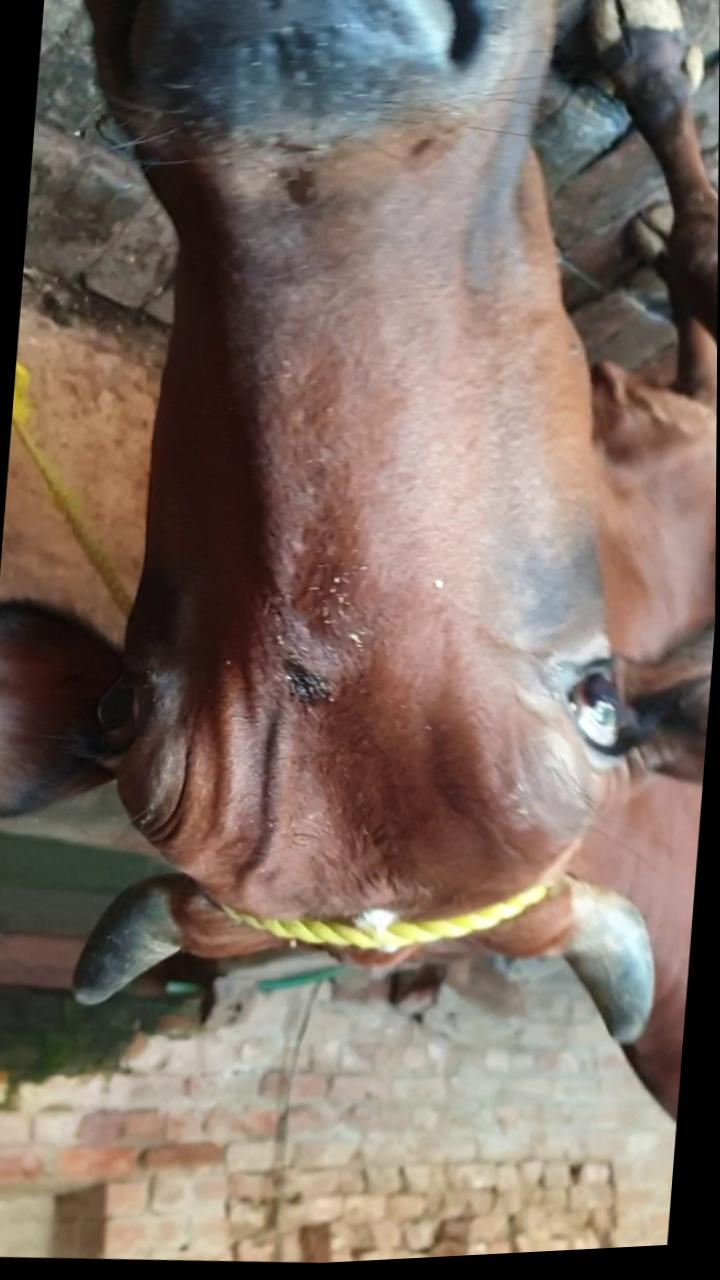cows: (0, 0, 715, 996)
